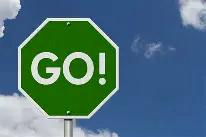Go: (22, 20, 116, 116)
